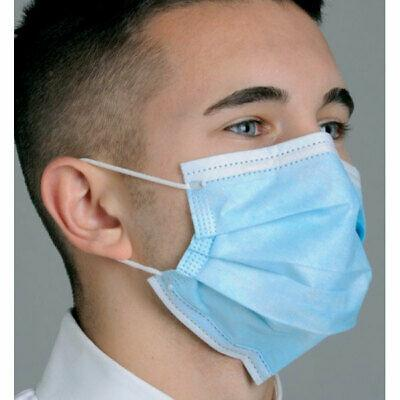Wearing Mask: (64, 4, 399, 400)
